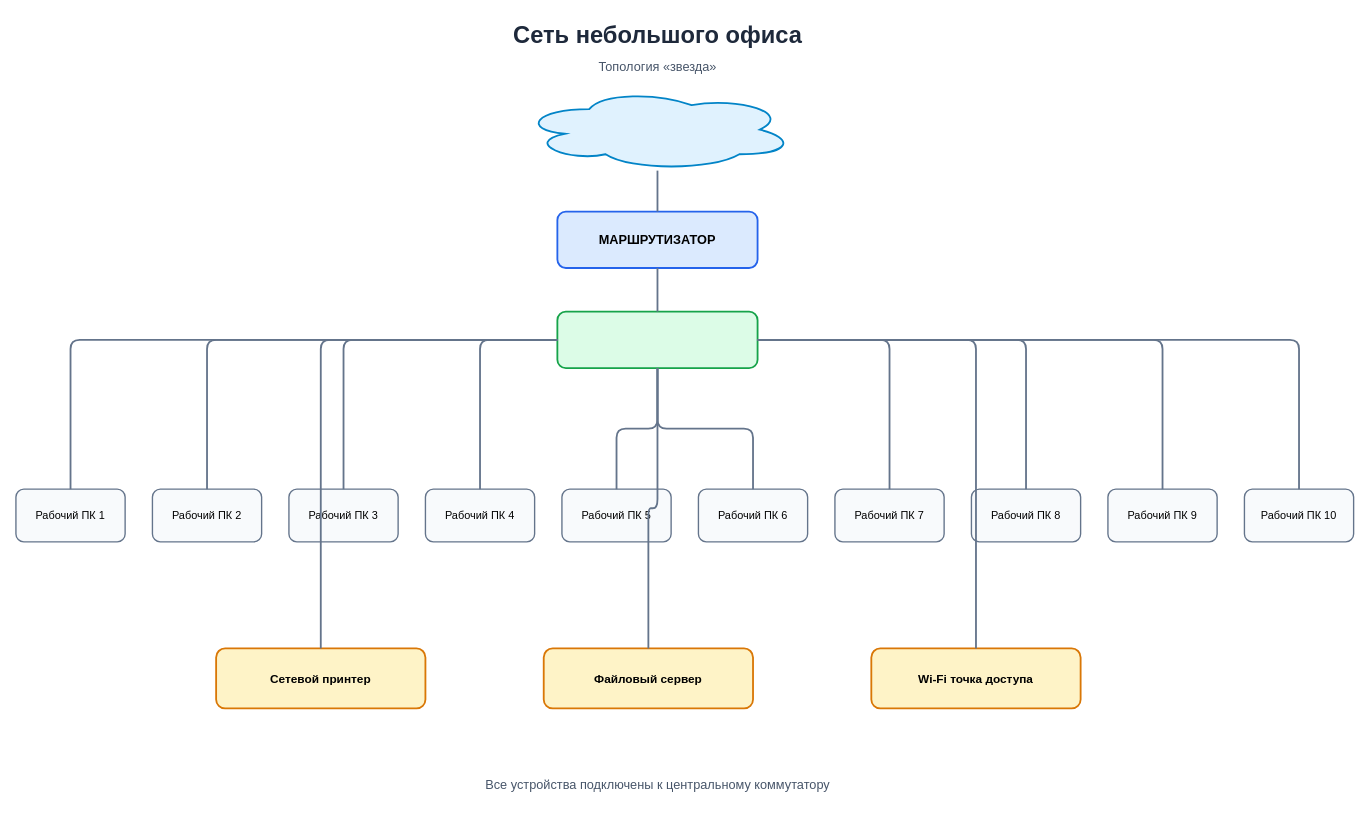
This 1370x814 diagram has some shape labels left out. The centre of each missing label's shape, as x and y in pixels:
ИНТЕРНЕТ: point 657,129
КОММУТАТОР: point 657,339
